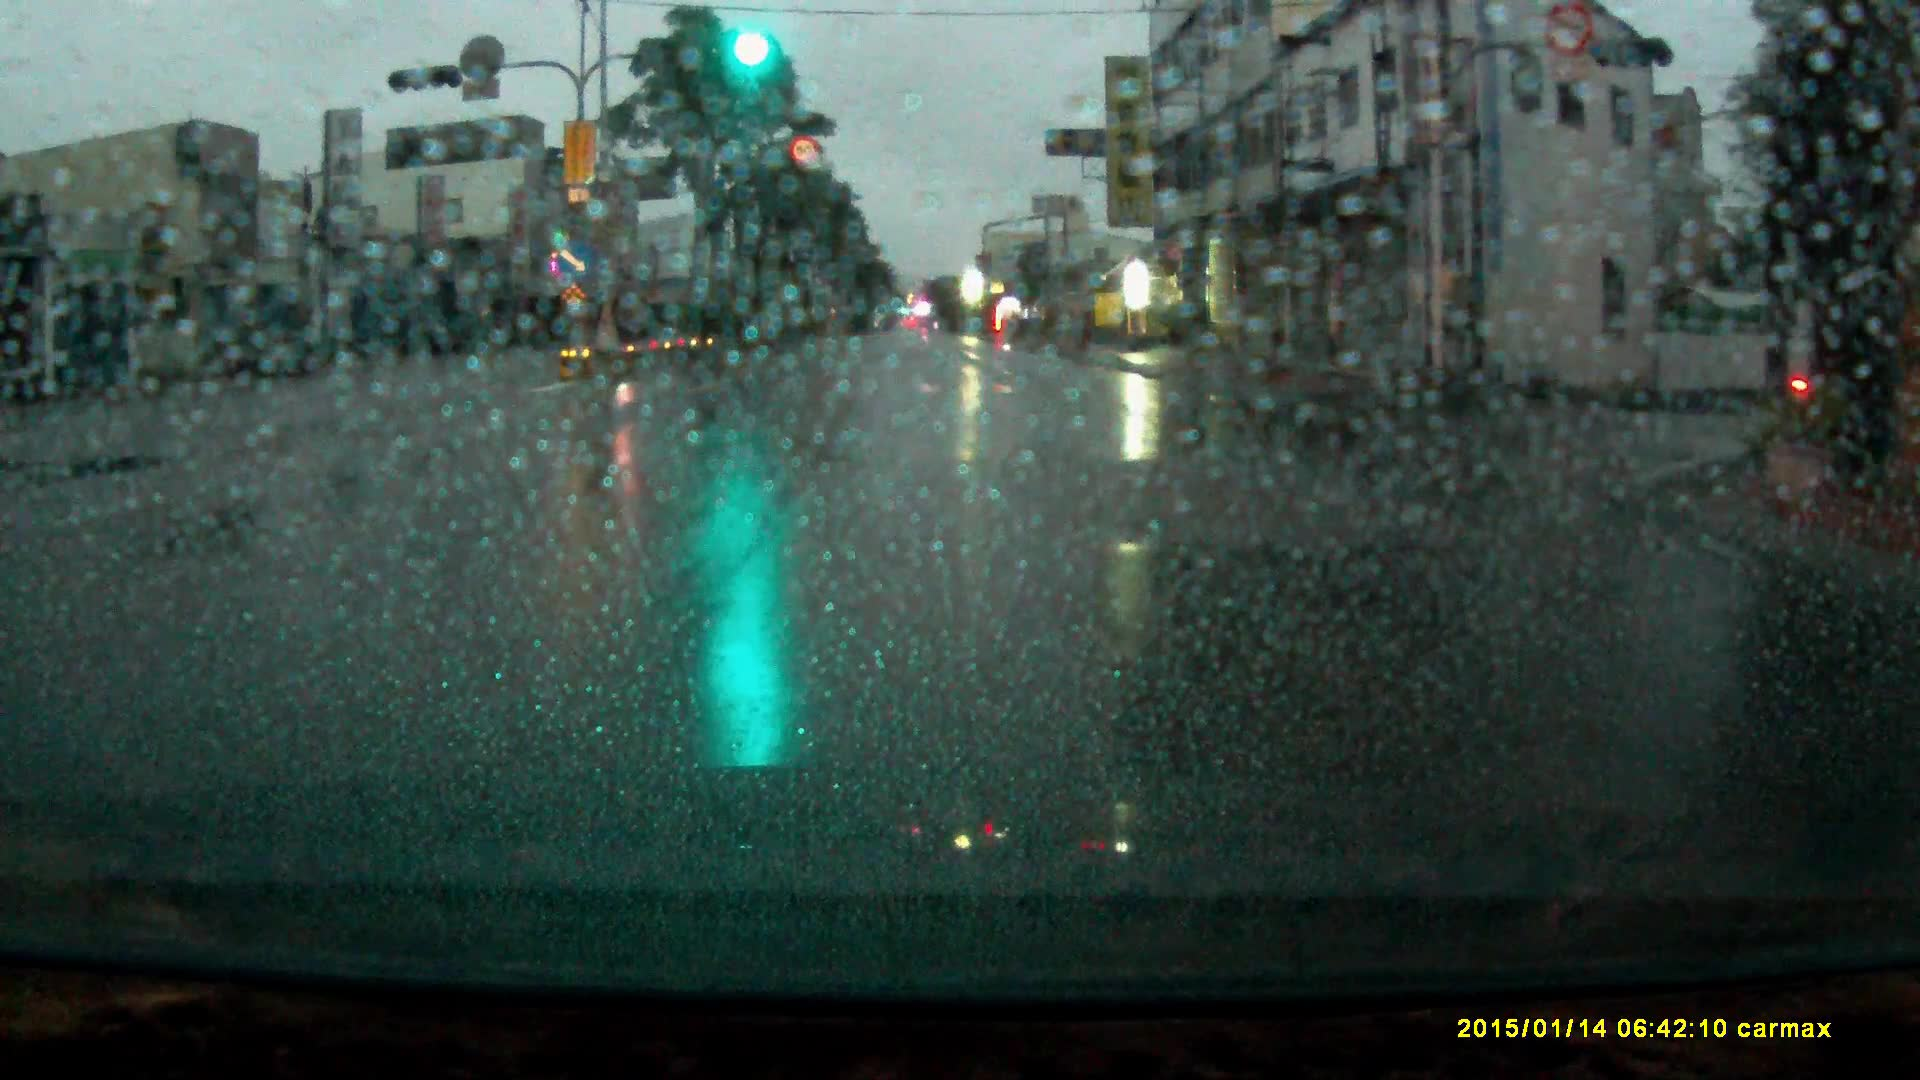rider: (1786, 313, 1851, 423)
